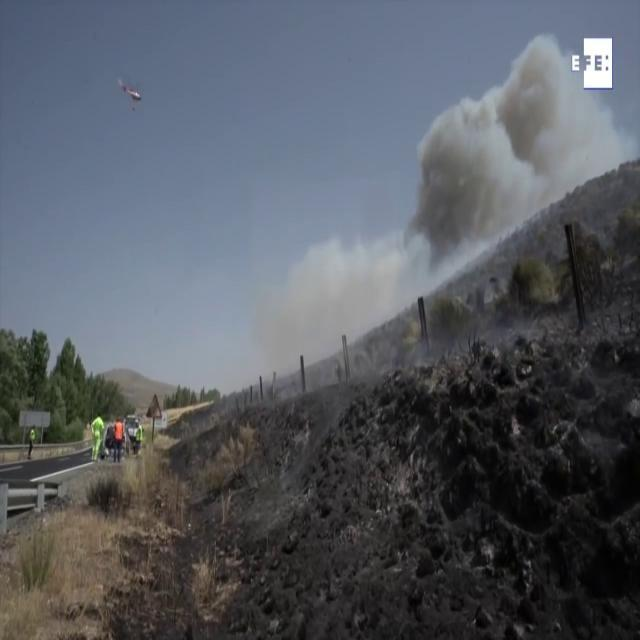Smoke: (403, 39, 609, 318)
